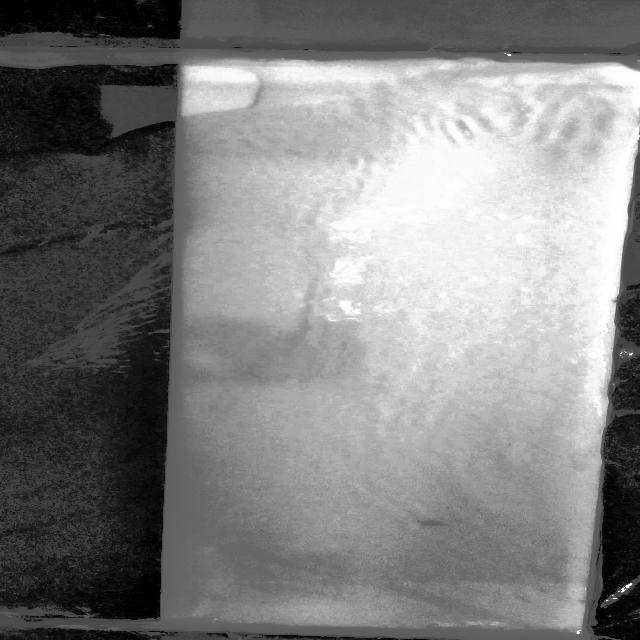shrimp: (414, 520, 450, 531)
